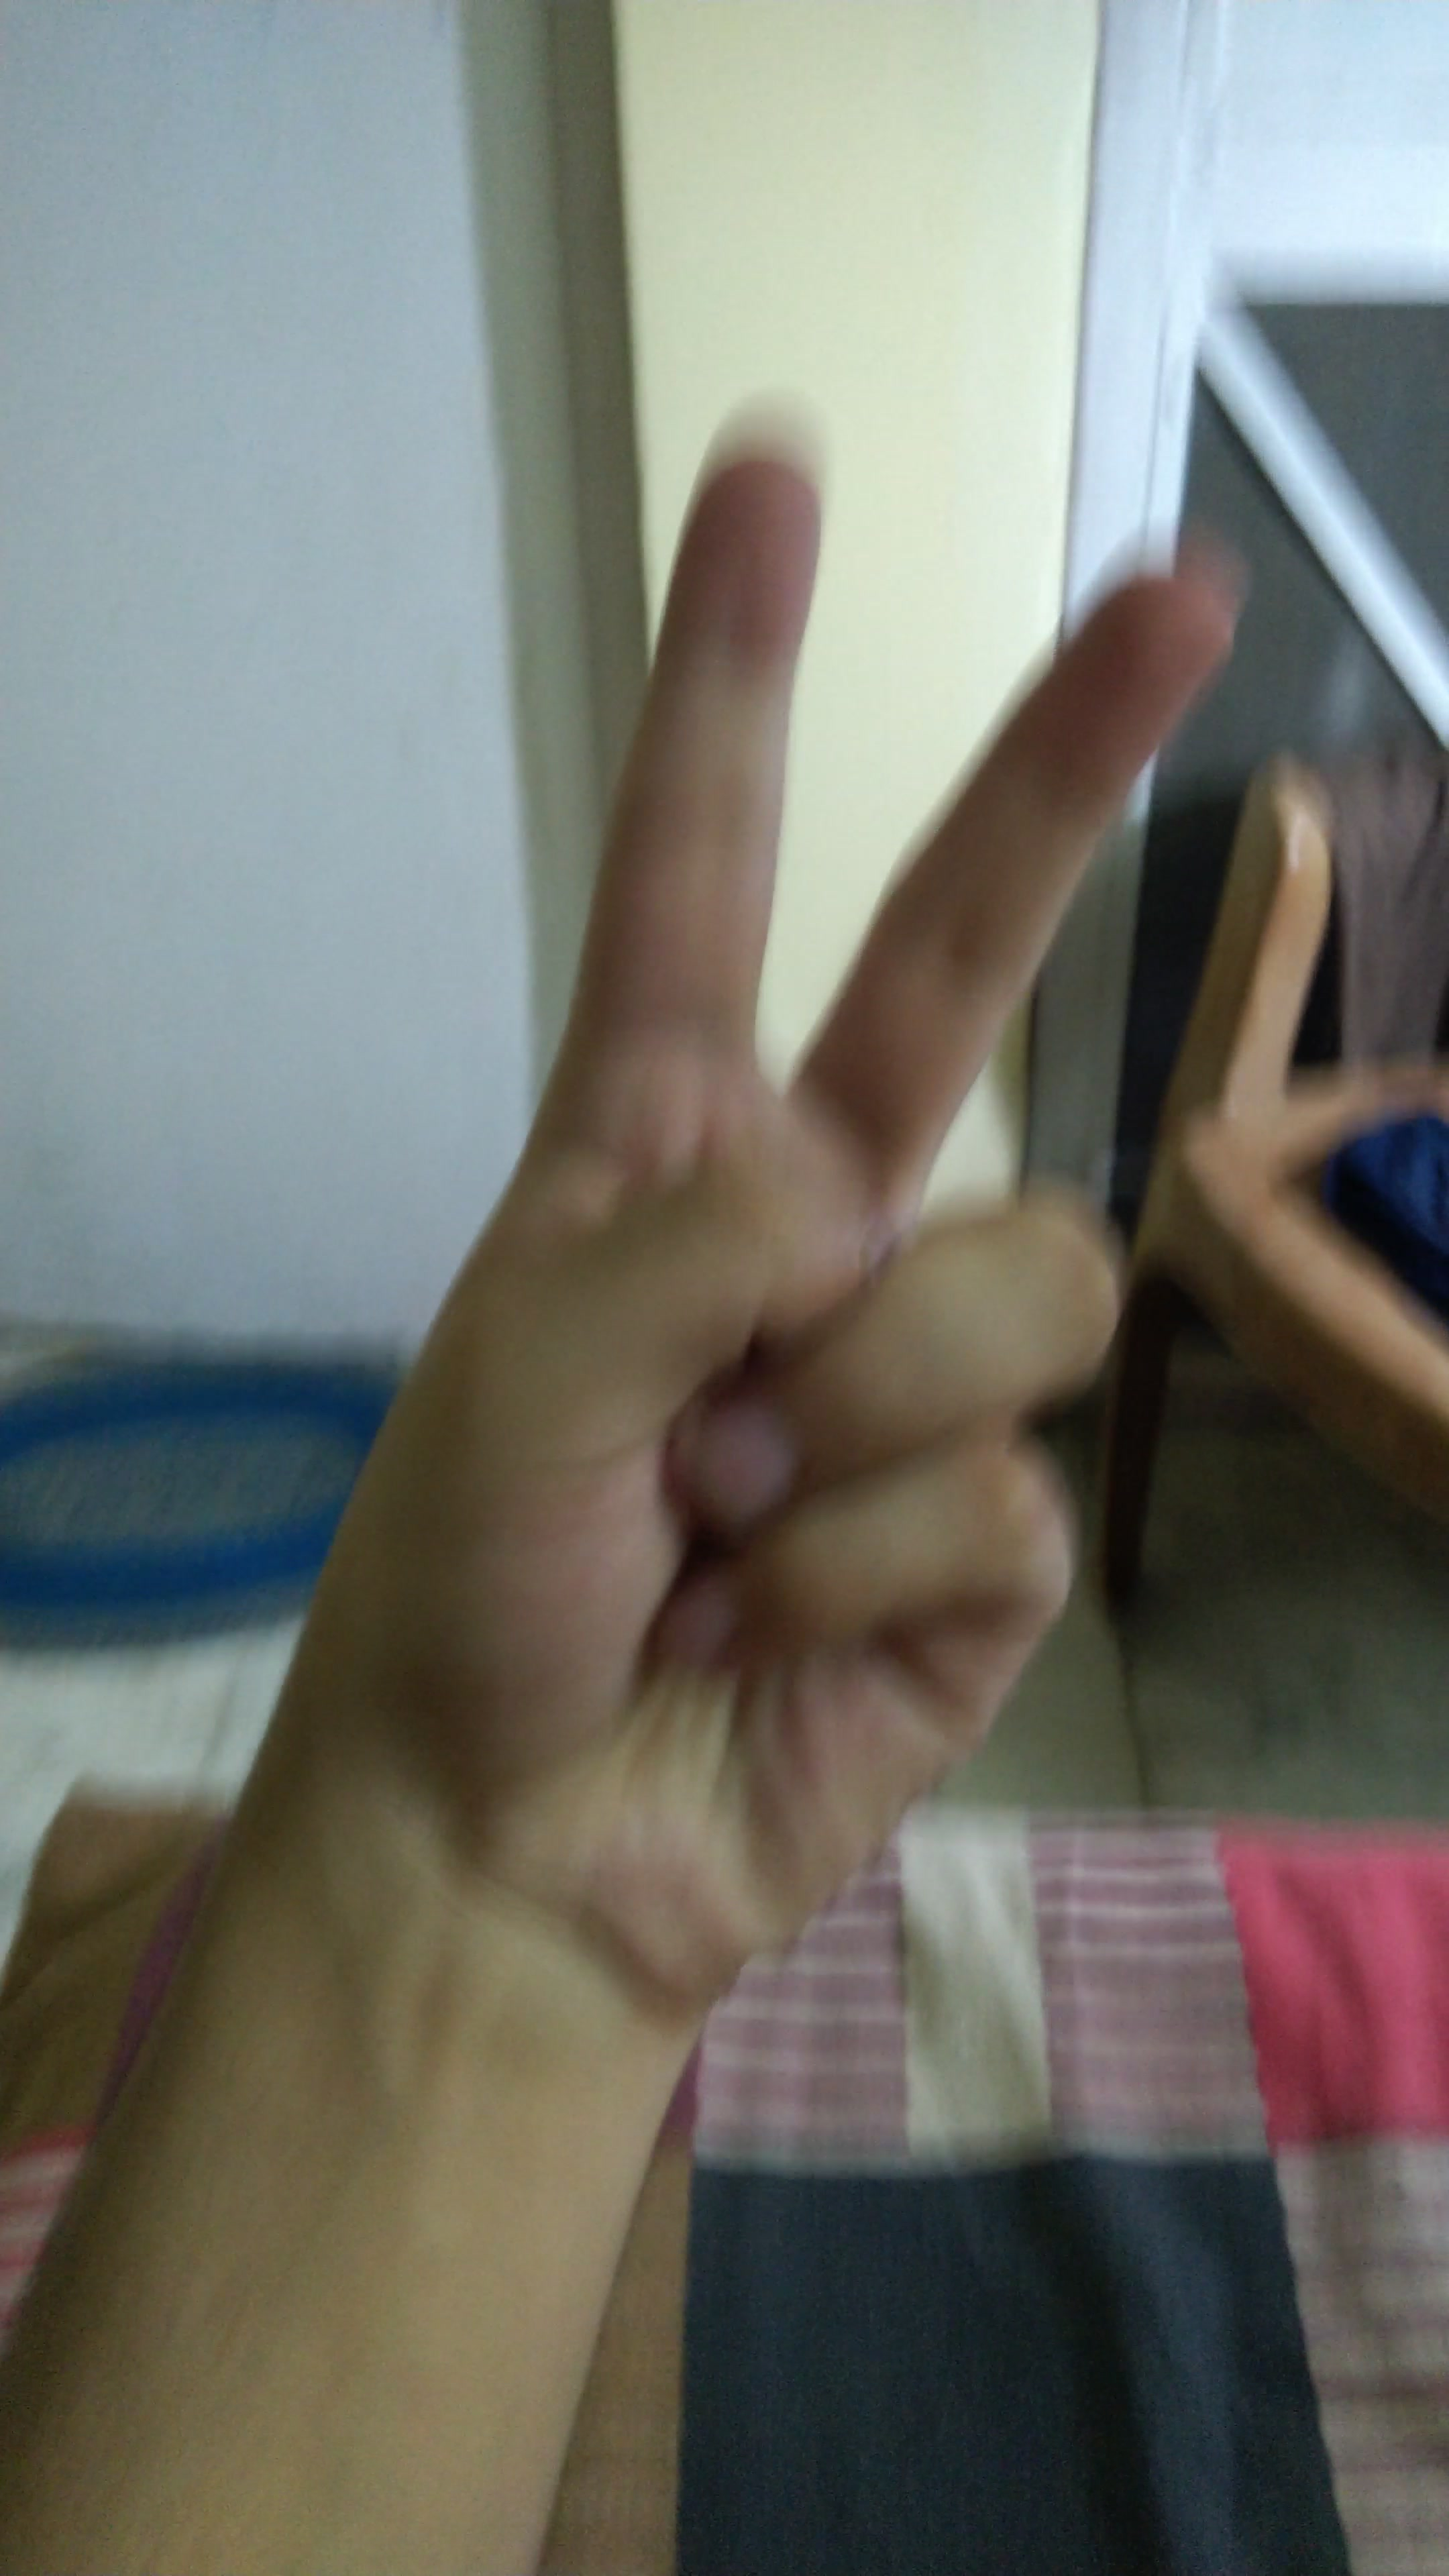hand: (157, 377, 1247, 2059)
